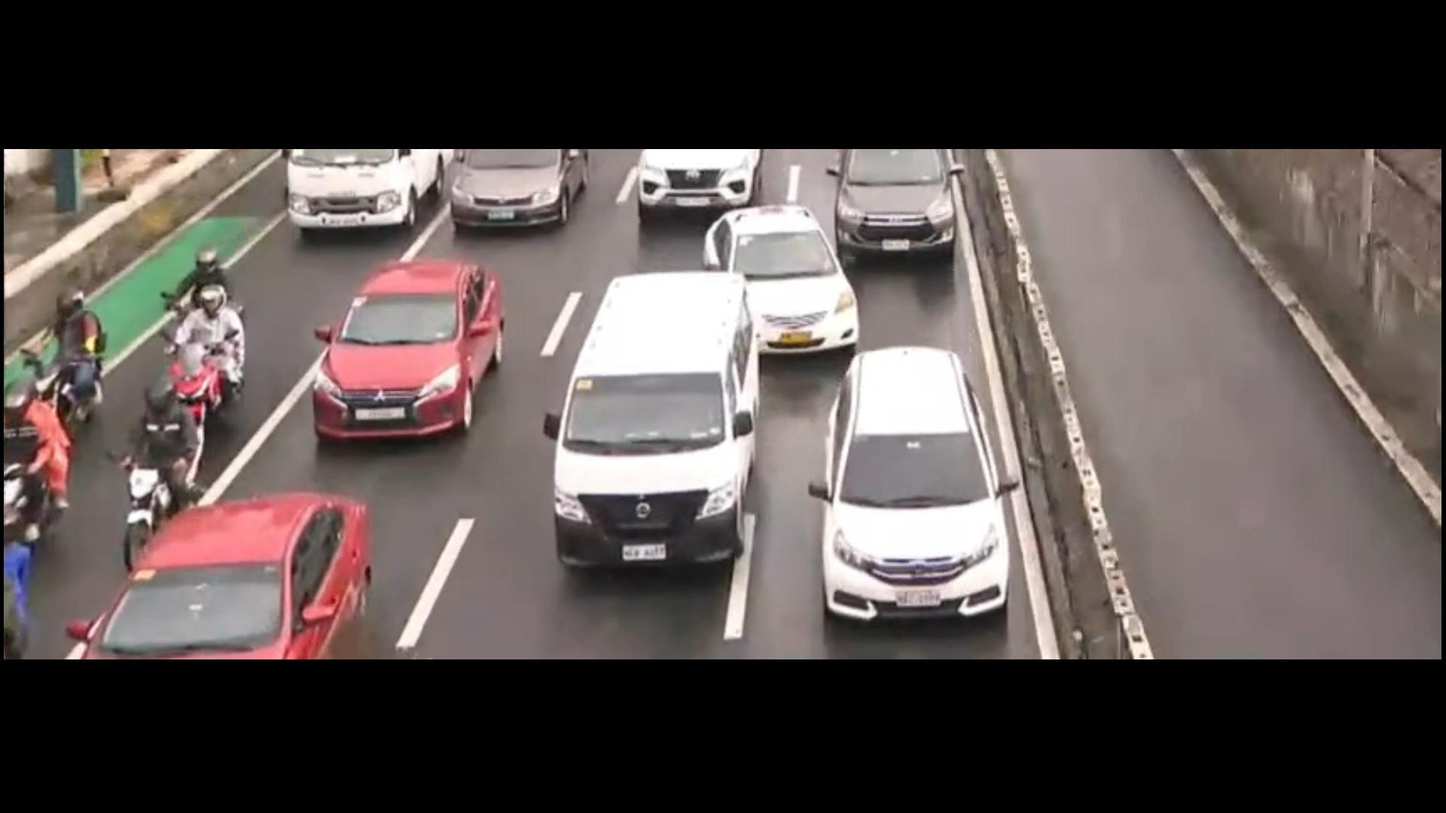Motorcycle: (113, 384, 213, 557), (0, 364, 91, 533), (162, 294, 268, 426), (161, 243, 260, 362), (33, 288, 110, 420)
SUV: (794, 330, 1038, 648), (820, 136, 981, 265), (625, 152, 779, 219)
Sedan: (64, 477, 392, 658), (306, 247, 529, 458), (687, 190, 883, 366), (448, 143, 597, 243)
Truck: (283, 145, 446, 251)
Van: (546, 262, 779, 601)
